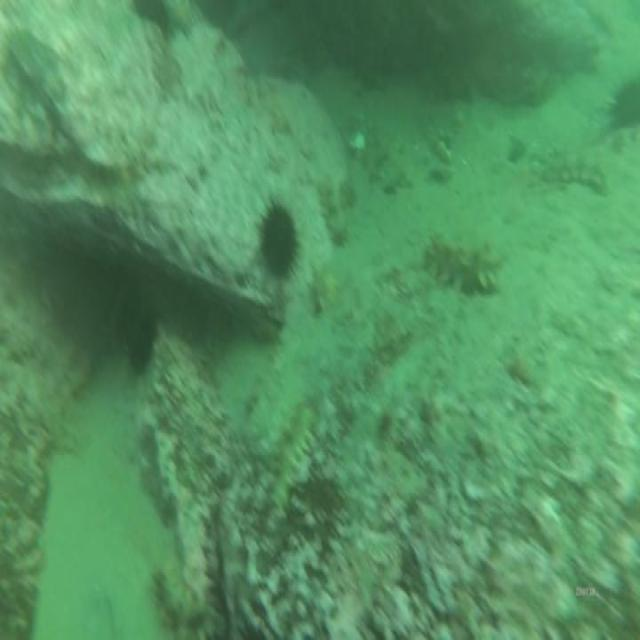echinus: (258, 198, 298, 284), (123, 303, 160, 378)
holothurian: (418, 229, 507, 302), (266, 394, 317, 511), (150, 556, 214, 640), (547, 150, 607, 204)
